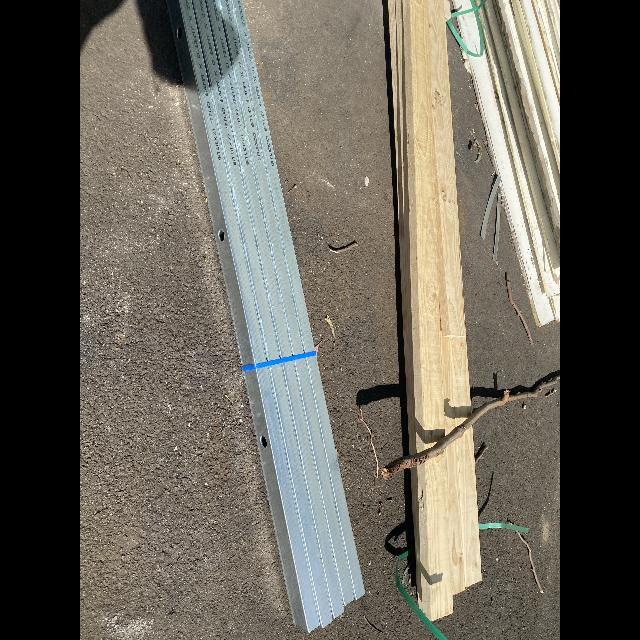Galvanized Steel: (168, 1, 315, 366), (244, 355, 366, 633)
